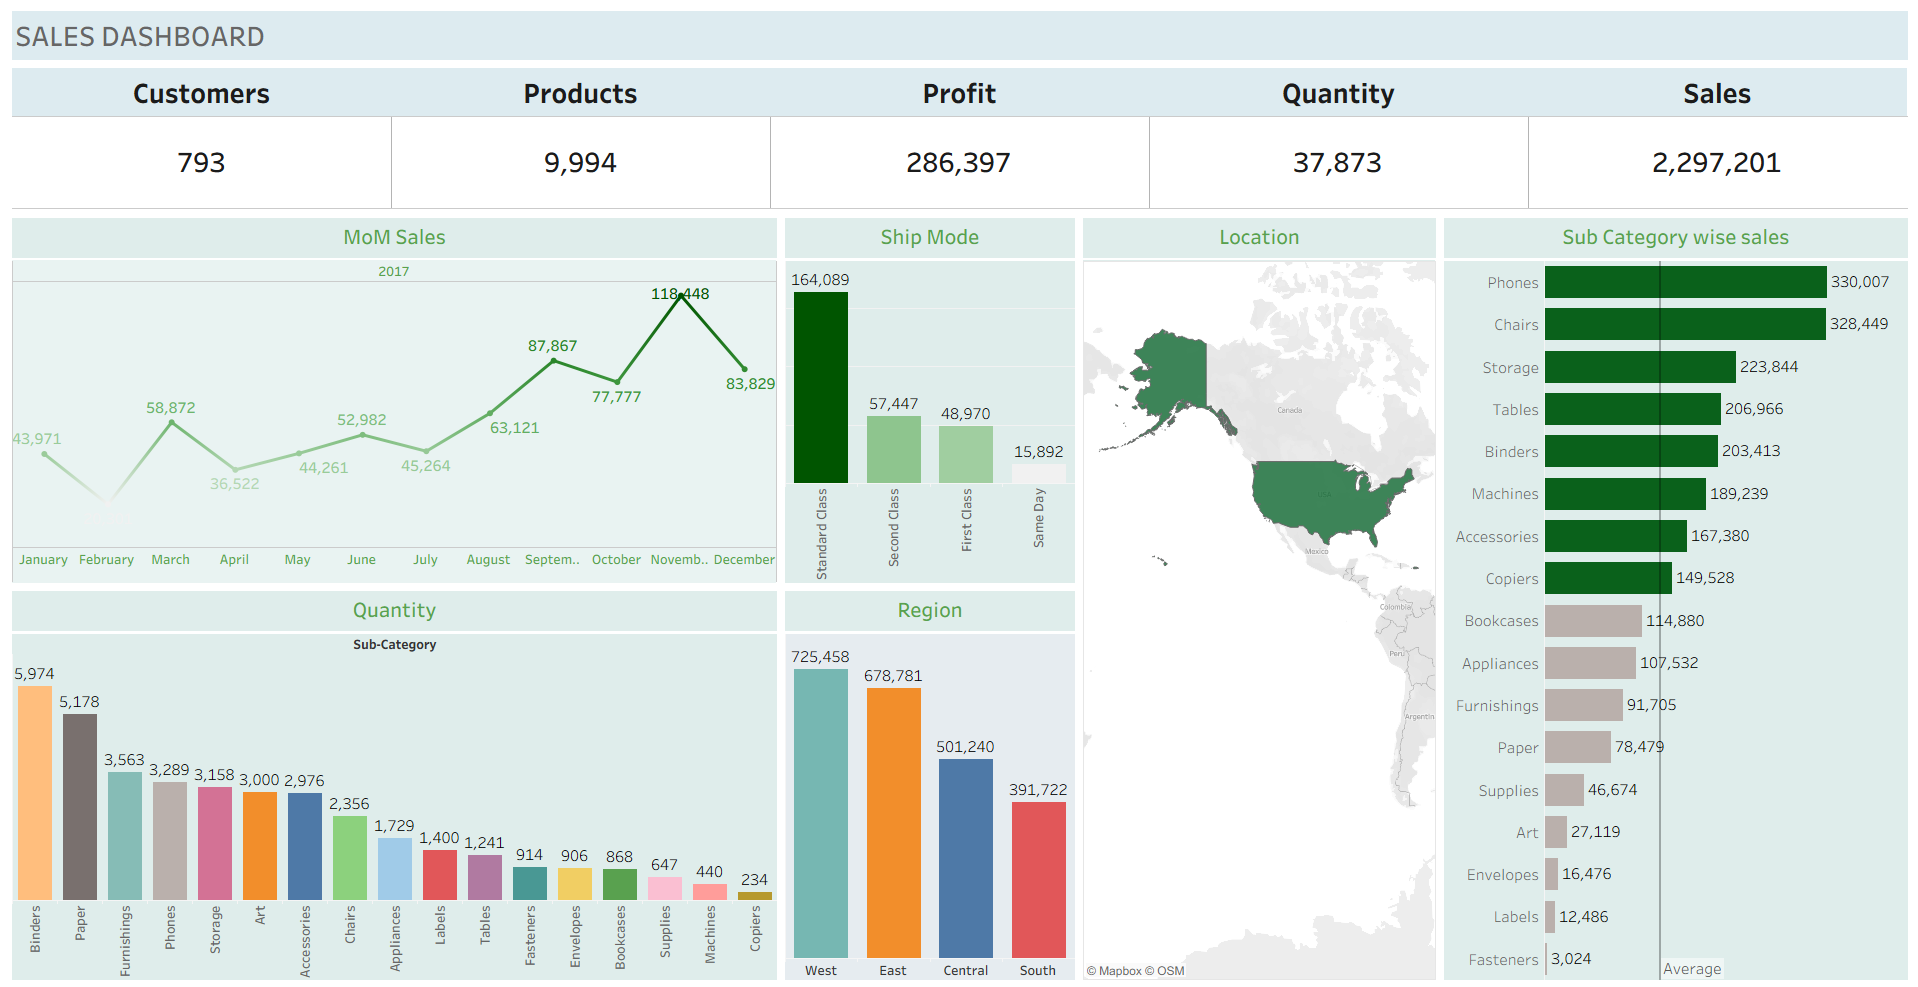

The page's visual inventory and layout, read from the dashboard file:
{"tool":"tableau","page":{"name":"Sales Dashboards","canvas":[1000,1000],"units":"permille","ordinal":0},"visuals":[{"type":"text","box":[4.8,10,990.3,57.4]},{"type":"worksheet","title":"KPI","mark":"Automatic","box":[4.8,67.4,990.3,149.8]},{"type":"worksheet","title":"MoM Sales","mark":"Automatic","rows":["Sales"],"cols":["Order Date","Order Date"],"box":[4.8,217.2,401.9,374.4]},{"type":"worksheet","title":"Ship Mode","mark":"Automatic","rows":["Profit"],"cols":["Ship Mode"],"box":[406.8,217.2,155.1,374.5]},{"type":"worksheet","title":"Location","mark":"Automatic","box":[561.9,217.2,187.7,772.8]},{"type":"worksheet","title":"Sub Category wise sales","mark":"Automatic","rows":["Sub-Category"],"cols":["Sales"],"box":[749.6,217.2,245.6,772.8]},{"type":"worksheet","title":"Quantity","mark":"Automatic","rows":["Quantity"],"cols":["Sub-Category"],"box":[4.8,591.6,401.9,398.4]},{"type":"worksheet","title":"Region","mark":"Automatic","rows":["Sales"],"cols":["Region"],"box":[406.8,591.8,155.1,398.2]}]}

Visuals, with their boxes on the dashboard's canvas, which has no fixed pixel size, in thousandths of its width and height (x1, y1, x2, y2). These are canvas units, not pixel positions in the 1918x987 screenshot, which may show the page scaled, cropped or inside an application window:
text: bbox=[5, 10, 995, 67]
"KPI" worksheet: bbox=[5, 67, 995, 217]
"MoM Sales" worksheet: bbox=[5, 217, 407, 592]
"Ship Mode" worksheet: bbox=[407, 217, 562, 592]
"Location" worksheet: bbox=[562, 217, 750, 990]
"Sub Category wise sales" worksheet: bbox=[750, 217, 995, 990]
"Quantity" worksheet: bbox=[5, 592, 407, 990]
"Region" worksheet: bbox=[407, 592, 562, 990]
